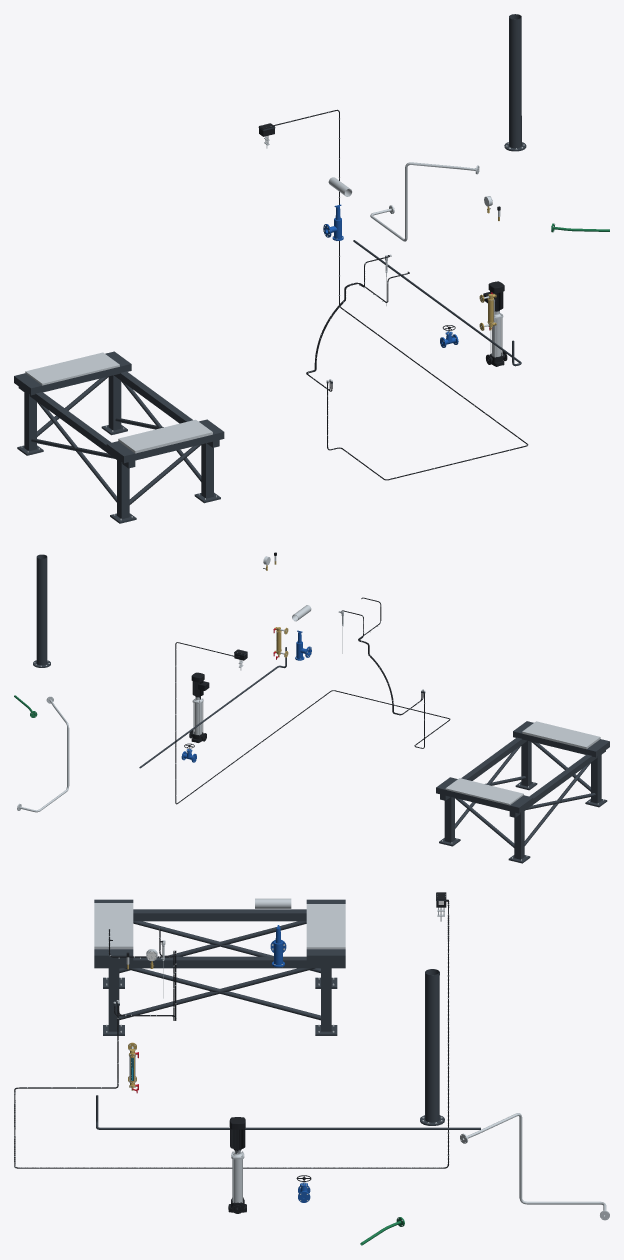
The model's file is s4000-7-D-xrKL3O.glb.
3 renders of one model, top to bottom at view 1: azimuth 30°, elevation 25°; view 2: azimuth 150°, elevation 25°; view 3: azimuth 270°, elevation 25°, orthographic. The views are drawn at different scales.
Parts seen in each view (by area): view 1: deaerator_support / dark, deaerator_support / steel, bdv_vent / dark, mod_direct_drive_cable / black, trap_gap_to_bdv / steel; view 2: deaerator_support / dark, deaerator_support / steel, bdv_vent / dark, mod_direct_drive_cable / black, trap_gap_to_bdv / steel, tds_common / dark; view 3: deaerator_support / dark, deaerator_support / steel, bdv_vent / dark, mod_direct_drive_cable / black, tds_common / dark, trap_gap_to_bdv / steel, pump_1 CAD solid 15.
Boxes of the visible parts, <box> form: deaerator_support / dark: <box>14,351,224,523</box>; deaerator_support / steel: <box>21,352,216,520</box>; bdv_vent / dark: <box>504,14,526,151</box>; mod_direct_drive_cable / black: <box>274,109,528,480</box>; trap_gap_to_bdv / steel: <box>370,162,479,241</box>; deaerator_support / dark: <box>436,721,609,863</box>; deaerator_support / steel: <box>442,721,603,860</box>; bdv_vent / dark: <box>33,554,50,667</box>; mod_direct_drive_cable / black: <box>175,642,450,804</box>; trap_gap_to_bdv / steel: <box>17,696,69,812</box>; tds_common / dark: <box>139,647,286,768</box>; deaerator_support / dark: <box>94,899,345,1035</box>; deaerator_support / steel: <box>94,903,345,1032</box>; bdv_vent / dark: <box>420,969,444,1125</box>; mod_direct_drive_cable / black: <box>14,900,449,1168</box>; tds_common / dark: <box>96,1095,480,1129</box>; trap_gap_to_bdv / steel: <box>460,1113,609,1220</box>; pump_1 CAD solid 15: <box>229,1117,245,1150</box>.
Size of the model in its own units: 9.01 by 3.85 by 6.74.
